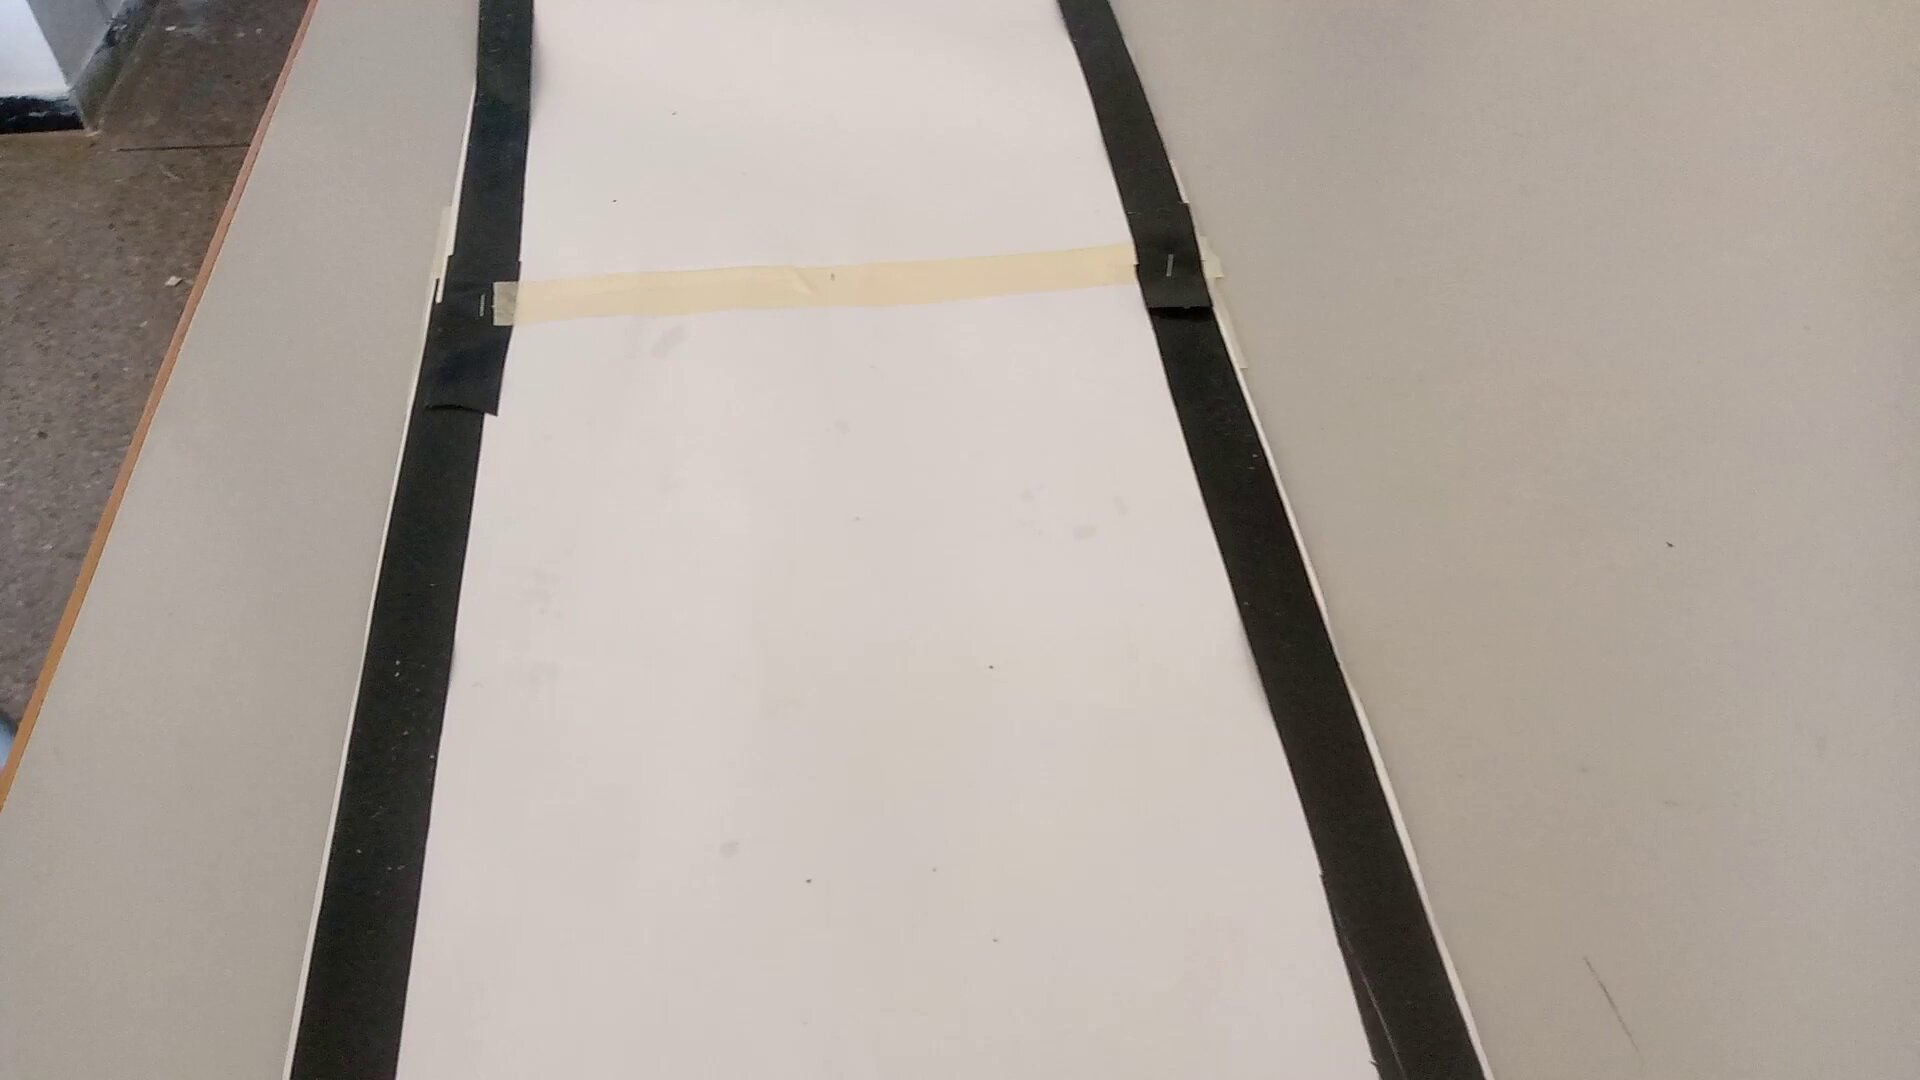forward: (276, 688, 1491, 1014)
right: (421, 160, 1288, 454)
